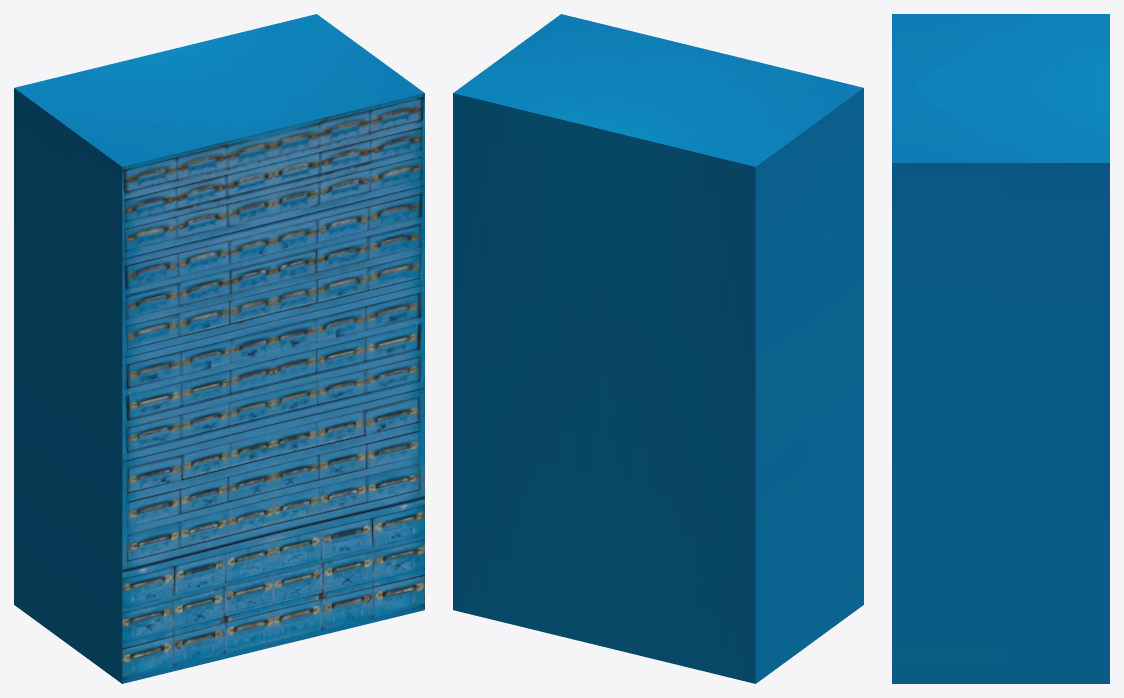
The model's file is filecabinet3.gltf.
3 renders of one model, left to right at view 1: azimuth 30°, elevation 25°; view 2: azimuth 150°, elevation 25°; view 3: azimuth 270°, elevation 25°, orthographic.
Visible parts, largest first — view 1: Cube; view 2: Cube; view 3: Cube.
Part boxes in pixels (bbox=[...]): Cube: bbox=[14, 14, 424, 683]; Cube: bbox=[453, 14, 863, 683]; Cube: bbox=[892, 14, 1109, 683].
Size of the model in its own units: 1.94 by 3.17 by 1.2.
Materials: 1 (1 with a texture image).
